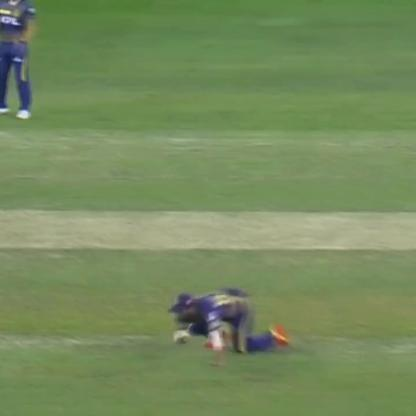ball: (170, 331, 192, 347)
